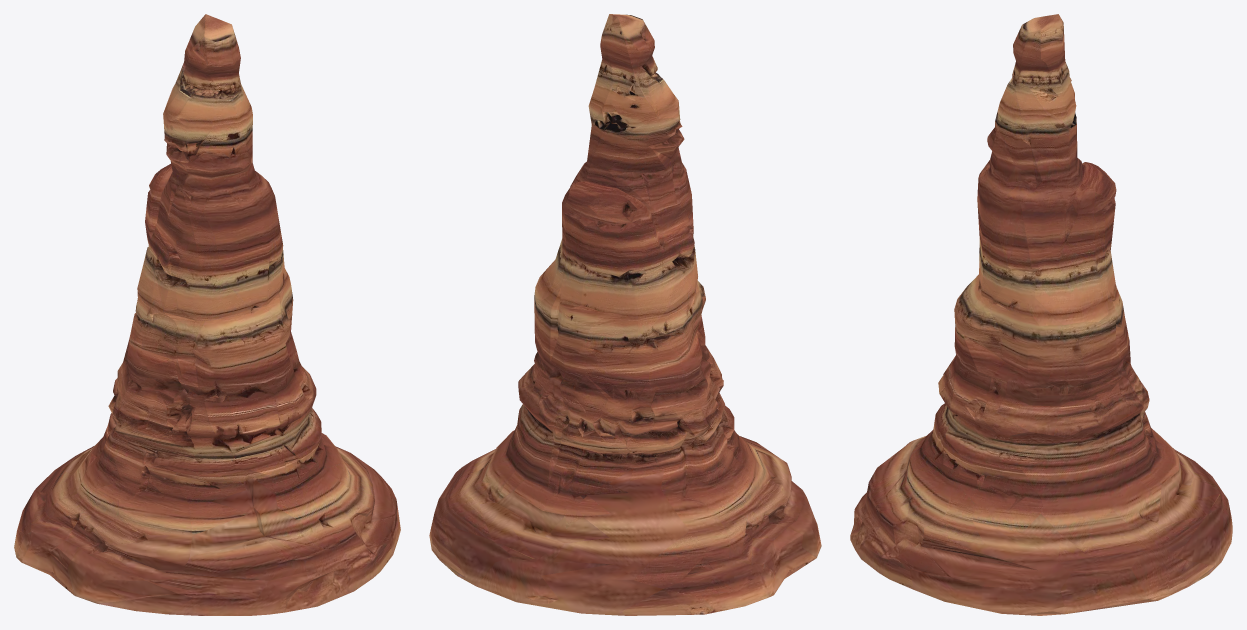
File: rock_spire.glb
3 views of the same model, side by side, from view 1: azimuth 30°, elevation 25°; view 2: azimuth 150°, elevation 25°; view 3: azimuth 270°, elevation 25° (orthographic).
Visible parts, largest first — view 1: Mesh_0; view 2: Mesh_0; view 3: Mesh_0.
Boxes of the visible parts, box(x1,y1,x2,y2) form: Mesh_0: box(14, 14, 400, 615); Mesh_0: box(429, 14, 821, 615); Mesh_0: box(850, 14, 1232, 615).
Size of the model in its own units: 1.28 by 1.9 by 1.26.
1 material, 1 textured.
